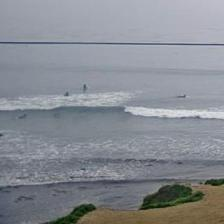surfer: (18, 114, 26, 120), (177, 94, 186, 98), (83, 84, 88, 89), (64, 92, 70, 96)
